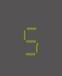five: (19, 19, 40, 56)
